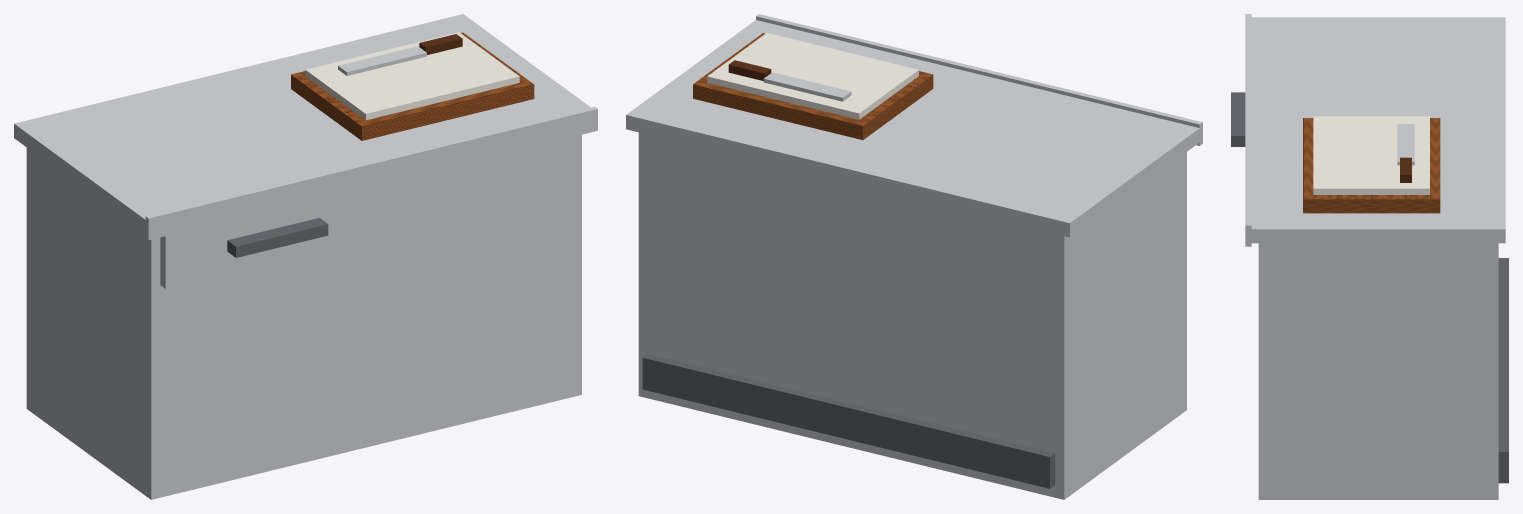
File: prep_bench_with_chopping_board.glb
3 renders of one model, left to right at view 1: azimuth 30°, elevation 25°; view 2: azimuth 150°, elevation 25°; view 3: azimuth 270°, elevation 25°, orthographic. The views are drawn at different scales.
Parts seen in each view (by area): view 1: prep-bench-with-chopping-board-steel, drawer/steel, prep-bench-with-chopping-board-cream, prep-bench-with-chopping-board-timber, drawer/charcoal; view 2: prep-bench-with-chopping-board-steel, prep-bench-with-chopping-board-charcoal, prep-bench-with-chopping-board-cream, prep-bench-with-chopping-board-timber; view 3: prep-bench-with-chopping-board-steel, prep-bench-with-chopping-board-cream, prep-bench-with-chopping-board-timber, prep-bench-with-chopping-board-charcoal, drawer/charcoal.
Boxes of the visible parts, bbox=[...] form: prep-bench-with-chopping-board-steel: bbox=[14, 14, 597, 499]; drawer/steel: bbox=[160, 183, 380, 288]; prep-bench-with-chopping-board-cream: bbox=[305, 32, 519, 120]; prep-bench-with-chopping-board-timber: bbox=[291, 32, 534, 140]; drawer/charcoal: bbox=[227, 218, 328, 257]; prep-bench-with-chopping-board-steel: bbox=[626, 14, 1202, 499]; prep-bench-with-chopping-board-charcoal: bbox=[642, 354, 1055, 488]; prep-bench-with-chopping-board-cream: bbox=[707, 33, 918, 119]; prep-bench-with-chopping-board-timber: bbox=[693, 33, 933, 139]; prep-bench-with-chopping-board-steel: bbox=[1245, 14, 1505, 499]; prep-bench-with-chopping-board-cream: bbox=[1313, 116, 1429, 194]; prep-bench-with-chopping-board-timber: bbox=[1303, 118, 1440, 213]; prep-bench-with-chopping-board-charcoal: bbox=[1498, 258, 1508, 483]; drawer/charcoal: bbox=[1231, 92, 1245, 146].
Size of the model in its own units: 1.46 by 0.975 by 0.81.
5 materials, 2 textured.
